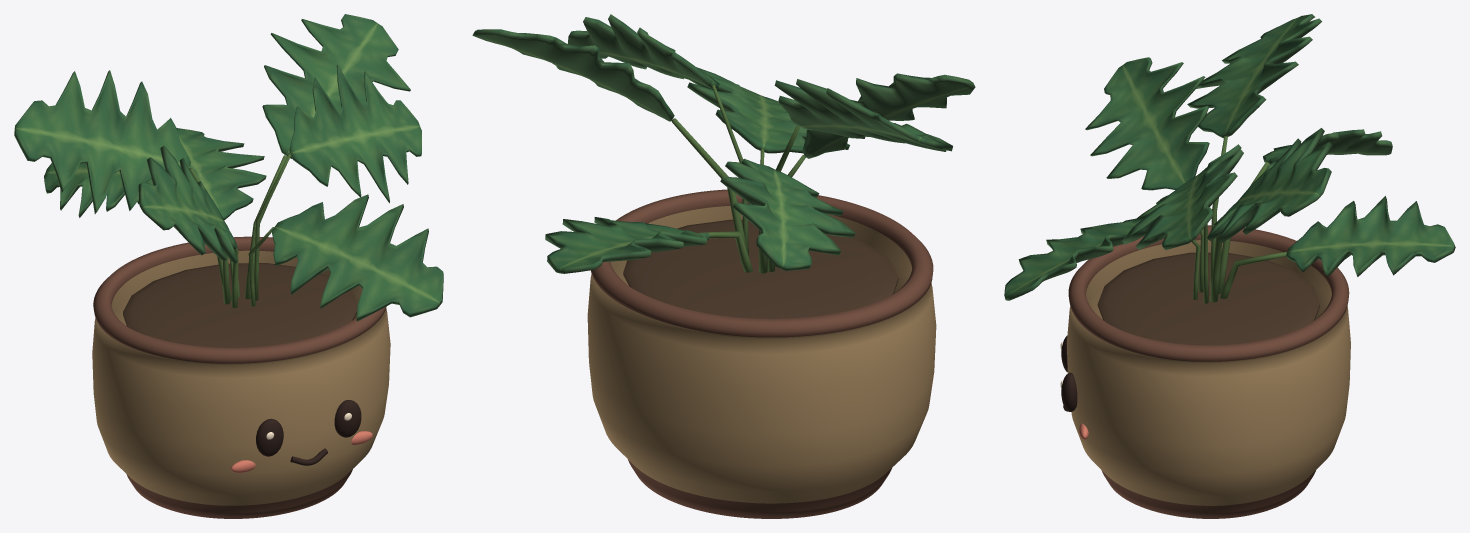
File: split-leaf-philodendron-v1.glb
3 renders of one model, left to right at view 1: azimuth 30°, elevation 25°; view 2: azimuth 150°, elevation 25°; view 3: azimuth 270°, elevation 25°, orthographic. The views are drawn at different scales.
Visible parts, largest first — view 1: Wheel-thrown ceramic, Soil, Split-Leaf Philodendron lamina 3, Split-Leaf Philodendron lamina 2, Split-Leaf Philodendron lamina 6, Split-Leaf Philodendron lamina 1, Split-Leaf Philodendron lamina 5, Split-Leaf Philodendron lamina 4, Split-Leaf Philodendron lamina 7, Eye, Eye.001, Split-Leaf Philodendron petiole 6 (+1 smaller); view 2: Wheel-thrown ceramic, Soil, Split-Leaf Philodendron lamina 7, Split-Leaf Philodendron lamina 4, Split-Leaf Philodendron lamina 2, Split-Leaf Philodendron lamina 1, Split-Leaf Philodendron lamina 5, Split-Leaf Philodendron lamina 3, Split-Leaf Philodendron lamina 6, Split-Leaf Philodendron petiole 1; view 3: Wheel-thrown ceramic, Soil, Split-Leaf Philodendron lamina 5, Split-Leaf Philodendron lamina 4, Split-Leaf Philodendron lamina 2, Split-Leaf Philodendron lamina 1, Split-Leaf Philodendron lamina 6, Split-Leaf Philodendron lamina 3, Split-Leaf Philodendron lamina 7, Split-Leaf Philodendron petiole 4, Eye.001.
Boxes of the visible parts, x1,y1,x2,y2 form: Wheel-thrown ceramic: [92, 236, 390, 518]; Soil: [123, 263, 357, 347]; Split-Leaf Philodendron lamina 3: [271, 194, 443, 321]; Split-Leaf Philodendron lamina 2: [14, 70, 190, 213]; Split-Leaf Philodendron lamina 6: [289, 64, 421, 203]; Split-Leaf Philodendron lamina 1: [262, 14, 410, 158]; Split-Leaf Philodendron lamina 5: [138, 145, 238, 263]; Split-Leaf Philodendron lamina 4: [176, 128, 266, 220]; Split-Leaf Philodendron lamina 7: [44, 163, 153, 217]; Eye: [256, 418, 283, 456]; Eye.001: [334, 400, 361, 437]; Split-Leaf Philodendron petiole 6: [254, 153, 291, 300]; Wheel-thrown ceramic: [587, 189, 936, 518]; Soil: [623, 219, 898, 318]; Split-Leaf Philodendron lamina 7: [720, 158, 855, 270]; Split-Leaf Philodendron lamina 4: [545, 217, 709, 273]; Split-Leaf Philodendron lamina 2: [774, 79, 952, 151]; Split-Leaf Philodendron lamina 1: [472, 29, 674, 121]; Split-Leaf Philodendron lamina 5: [802, 73, 975, 158]; Split-Leaf Philodendron lamina 3: [687, 67, 849, 153]; Split-Leaf Philodendron lamina 6: [567, 14, 719, 89]; Split-Leaf Philodendron petiole 1: [671, 118, 748, 265]; Wheel-thrown ceramic: [1066, 225, 1350, 518]; Soil: [1097, 252, 1319, 345]; Split-Leaf Philodendron lamina 5: [1085, 57, 1209, 190]; Split-Leaf Philodendron lamina 4: [1286, 196, 1455, 276]; Split-Leaf Philodendron lamina 2: [1187, 14, 1321, 138]; Split-Leaf Philodendron lamina 1: [1207, 128, 1332, 243]; Split-Leaf Philodendron lamina 6: [1122, 144, 1243, 250]; Split-Leaf Philodendron lamina 3: [1004, 218, 1137, 300]; Split-Leaf Philodendron lamina 7: [1263, 129, 1392, 164]; Split-Leaf Philodendron petiole 4: [1219, 252, 1286, 298]; Eye.001: [1061, 372, 1077, 411].
Size of the model in its own units: 2.35 by 2.33 by 2.37.
